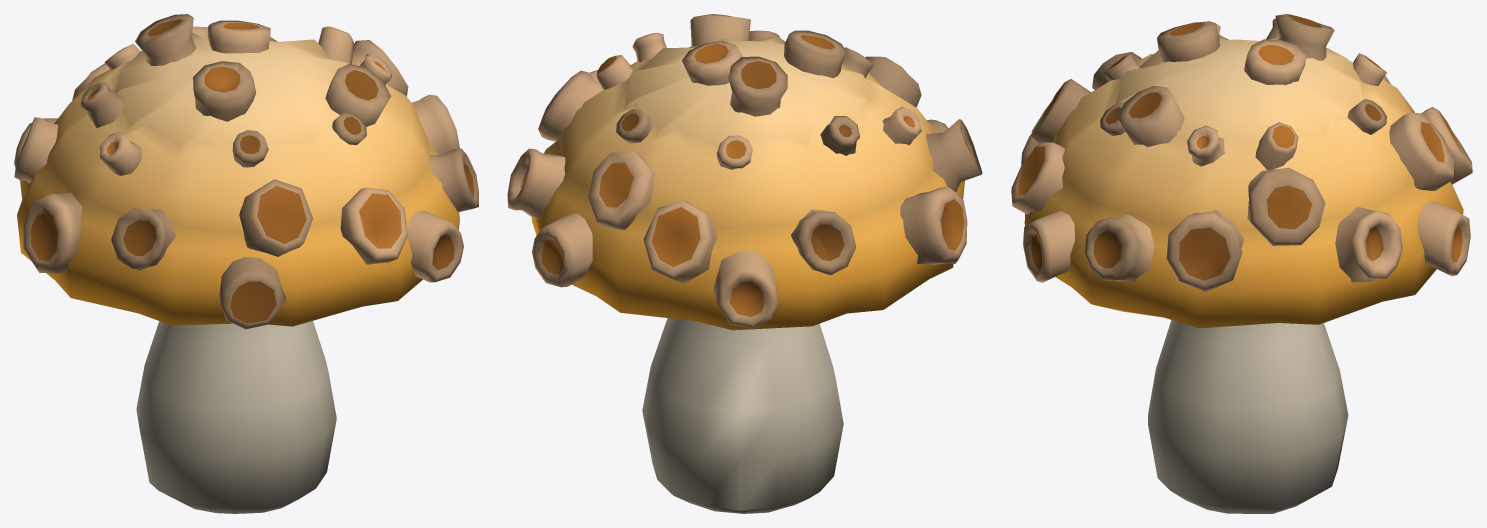
The model's file is Mushroom_0001_0016.fbx.
3 renders of one model, left to right at view 1: azimuth 30°, elevation 25°; view 2: azimuth 150°, elevation 25°; view 3: azimuth 270°, elevation 25°, orthographic.
Parts seen in each view (by area): view 1: Mushroom_0001_0016; view 2: Mushroom_0001_0016; view 3: Mushroom_0001_0016.
Part boxes in pixels (<box>): Mushroom_0001_0016: <box>14,14,478,513</box>; Mushroom_0001_0016: <box>507,14,982,513</box>; Mushroom_0001_0016: <box>1011,14,1472,513</box>.
Bounding box in the file's own units: 0.2494 × 0.2717 × 0.2476.
Materials: 1 (1 with a texture image).
